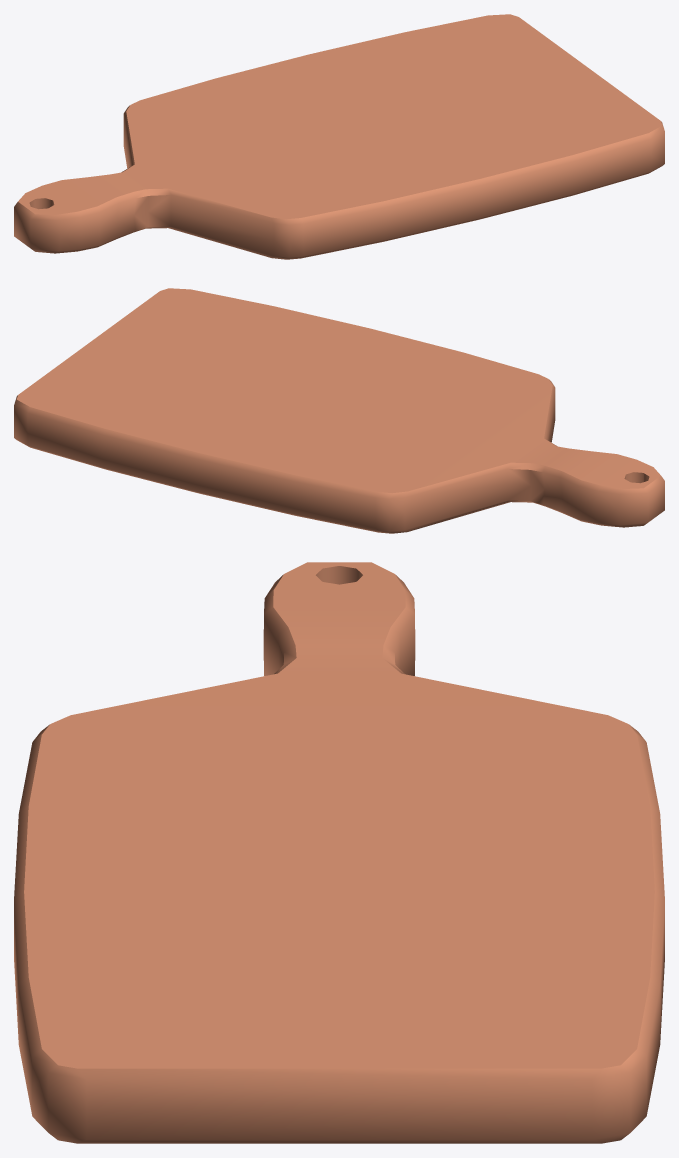
Rendered from cuttingboard.glb.
The picture shows the model from 3 angles, top to bottom: view 1: azimuth 30°, elevation 25°; view 2: azimuth 150°, elevation 25°; view 3: azimuth 270°, elevation 25°; orthographic projection. The views are drawn at different scales.
Visible parts, largest first — view 1: board_charcuterie_board_Cube.203; view 2: board_charcuterie_board_Cube.203; view 3: board_charcuterie_board_Cube.203.
Boxes of the visible parts, x1=… form: board_charcuterie_board_Cube.203: x1=14, y1=14, x2=664, y2=259; board_charcuterie_board_Cube.203: x1=14, y1=288, x2=664, y2=533; board_charcuterie_board_Cube.203: x1=14, y1=562, x2=664, y2=1143.
Size of the model in its own units: 7.31 by 0.5125 by 3.9.
1 material, 1 textured.
